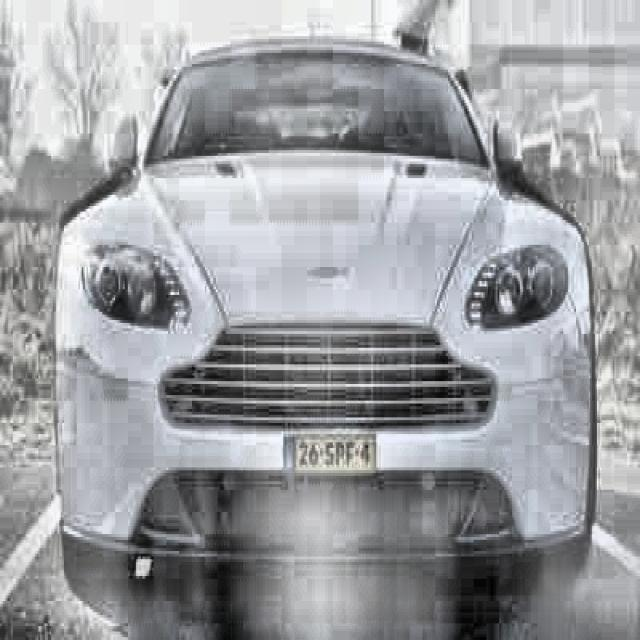license_plate: (282, 429, 379, 478)
